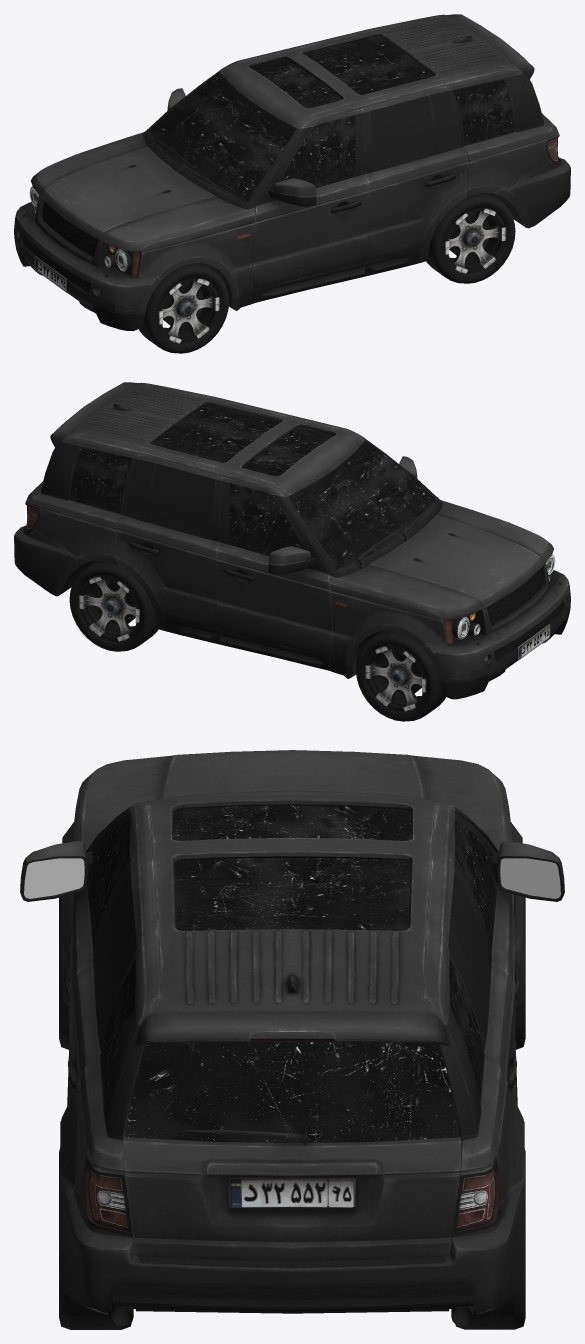
File: suv.glb
3 renders of one model, top to bottom at view 1: azimuth 30°, elevation 25°; view 2: azimuth 150°, elevation 25°; view 3: azimuth 270°, elevation 25°, orthographic. The views are drawn at different scales.
Parts seen in each view (by area): view 1: Mesh_0055.001_0, Mesh_0063.001_0, Mesh_0126.001_0, Mesh_0051.001_0; view 2: Mesh_0055.001_0, Mesh_0063.001_0, Mesh_0126.001_0, Mesh_0051.001_0; view 3: Mesh_0055.001_0, Mesh_0063.001_0, Mesh_0126.001_0, Mesh_0051.001_0, Mesh_0128.001_0.
Boxes of the visible parts, box(x1,y1,x2,y2) form: Mesh_0055.001_0: box(14, 14, 570, 353); Mesh_0063.001_0: box(149, 36, 515, 201); Mesh_0126.001_0: box(167, 88, 368, 302); Mesh_0051.001_0: box(362, 86, 469, 276); Mesh_0055.001_0: box(14, 382, 570, 721); Mesh_0063.001_0: box(69, 404, 435, 569); Mesh_0126.001_0: box(216, 456, 417, 670); Mesh_0051.001_0: box(115, 454, 222, 644); Mesh_0055.001_0: box(59, 750, 525, 1329); Mesh_0063.001_0: box(87, 805, 497, 1142); Mesh_0126.001_0: box(20, 812, 564, 1105); Mesh_0051.001_0: box(61, 860, 523, 1119); Mesh_0128.001_0: box(24, 858, 560, 898).
Bounding box in the file's own units: 10.61 × 4.09 × 5.22.
Materials: 4 (3 with a texture image).
